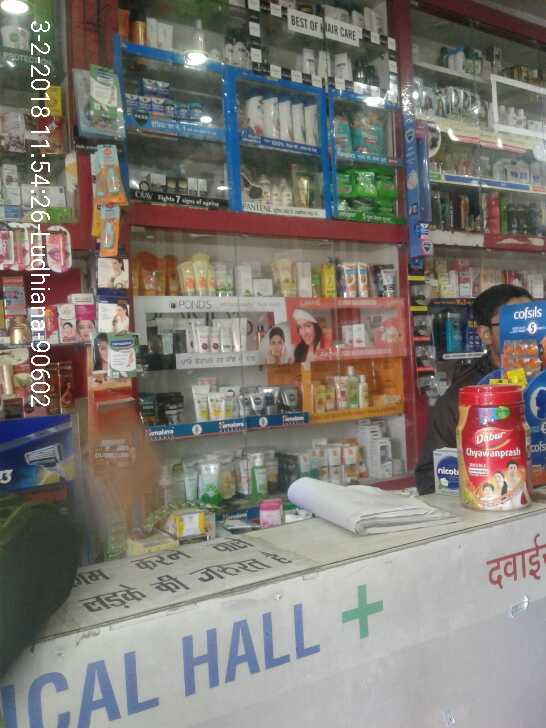vicks: (126, 67, 210, 129)
